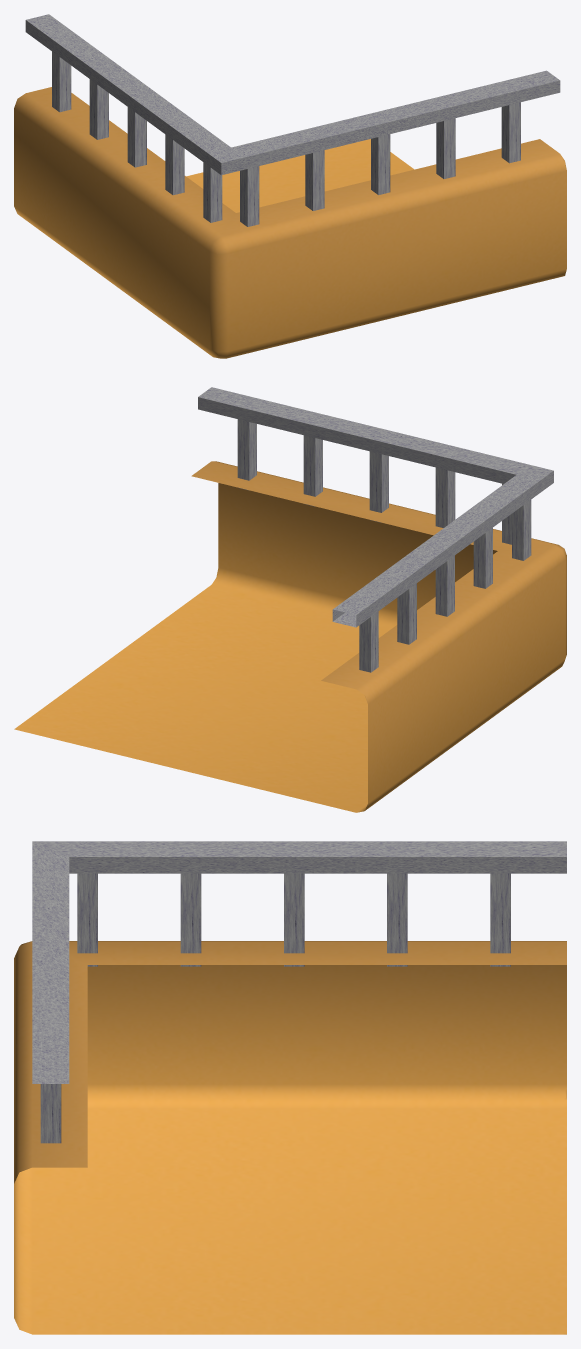
File: VarandaQuina.fbx
3 renders of one model, top to bottom at view 1: azimuth 30°, elevation 25°; view 2: azimuth 150°, elevation 25°; view 3: azimuth 270°, elevation 25°, orthographic. The views are drawn at different scales.
Parts seen in each view (by area): view 1: Piso_Parede_Quina, Grade_Superior, Grade_RepetidaR, Grade_RepetidaL; view 2: Piso_Parede_Quina, Grade_Superior, Grade_RepetidaL, Grade_RepetidaR; view 3: Piso_Parede_Quina, Grade_Superior, Grade_RepetidaL, Grade_RepetidaR.
Part boxes in pixels (bbox=[...]): Piso_Parede_Quina: bbox=[14, 87, 566, 358]; Grade_Superior: bbox=[25, 14, 560, 175]; Grade_RepetidaR: bbox=[240, 102, 520, 226]; Grade_RepetidaL: bbox=[52, 51, 222, 222]; Piso_Parede_Quina: bbox=[14, 461, 566, 812]; Grade_Superior: bbox=[198, 387, 553, 627]; Grade_RepetidaL: bbox=[359, 500, 531, 672]; Grade_RepetidaR: bbox=[237, 419, 511, 544]; Piso_Parede_Quina: bbox=[14, 941, 566, 1334]; Grade_Superior: bbox=[32, 841, 566, 1083]; Grade_RepetidaL: bbox=[77, 873, 510, 966]; Grade_RepetidaR: bbox=[40, 1084, 61, 1143].
Bounding box in the file's own units: 300 × 160 × 300.
